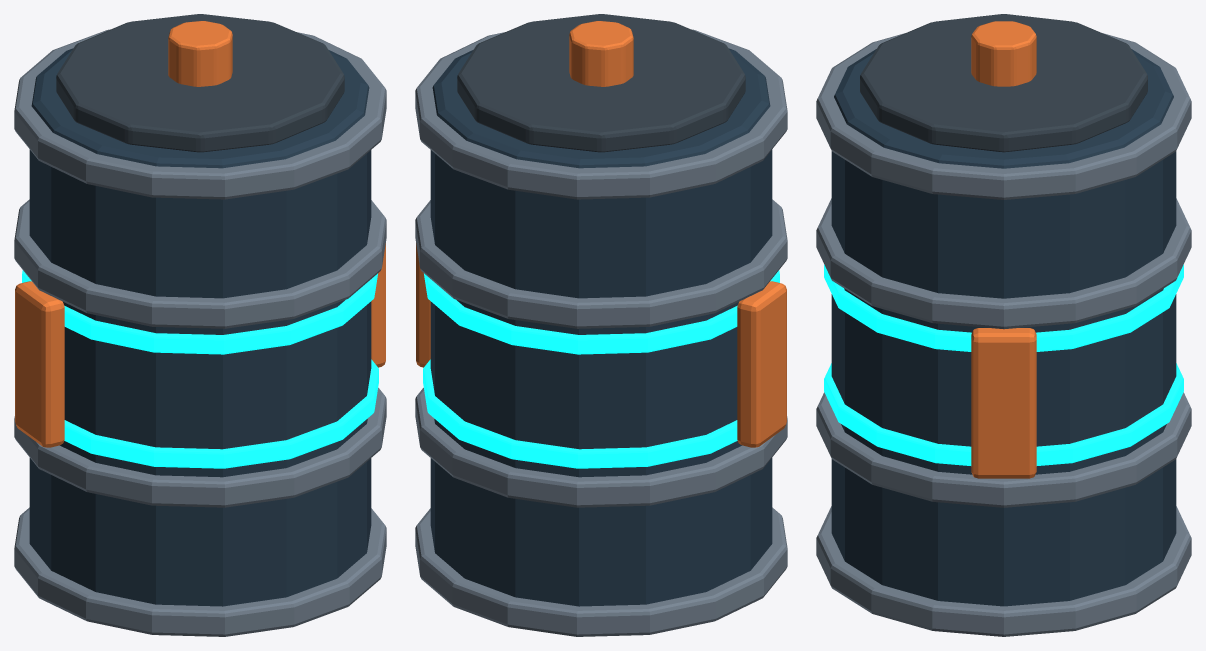
Rendered from energy-barrel.glb.
3 renders of one model, left to right at view 1: azimuth 30°, elevation 25°; view 2: azimuth 150°, elevation 25°; view 3: azimuth 270°, elevation 25°, orthographic.
Visible parts, largest first — view 1: BarrelCore, TopCap, Reinforcement_4.28, Reinforcement_0.22, Reinforcement_3.08, Reinforcement_1.42, Handle_-1, EnergyBand_1.72, EnergyBand_2.78, Valve, Handle_1; view 2: BarrelCore, TopCap, Reinforcement_4.28, Reinforcement_0.22, Reinforcement_3.08, Reinforcement_1.42, Handle_-1, EnergyBand_1.72, EnergyBand_2.78, Valve, Handle_1; view 3: BarrelCore, TopCap, Reinforcement_4.28, Reinforcement_3.08, Reinforcement_0.22, Reinforcement_1.42, Handle_1, EnergyBand_1.72, EnergyBand_2.78, Valve.
Part boxes in pixels (x1,y1,x2,y2): BarrelCore: [29, 48, 371, 606]; TopCap: [56, 14, 344, 152]; Reinforcement_4.28: [14, 29, 386, 199]; Reinforcement_0.22: [14, 507, 386, 636]; Reinforcement_3.08: [14, 199, 386, 328]; Reinforcement_1.42: [14, 388, 386, 507]; Handle_-1: [15, 281, 64, 447]; EnergyBand_1.72: [64, 359, 378, 468]; EnergyBand_2.78: [22, 270, 377, 354]; Valve: [168, 21, 232, 86]; Handle_1: [371, 243, 385, 367]; BarrelCore: [430, 48, 772, 606]; TopCap: [457, 14, 745, 152]; Reinforcement_4.28: [415, 29, 787, 199]; Reinforcement_0.22: [415, 507, 787, 636]; Reinforcement_3.08: [415, 199, 787, 328]; Reinforcement_1.42: [415, 388, 787, 507]; Handle_-1: [737, 281, 786, 447]; EnergyBand_1.72: [423, 359, 737, 468]; EnergyBand_2.78: [424, 270, 779, 354]; Valve: [569, 21, 633, 86]; Handle_1: [416, 243, 430, 367]; BarrelCore: [831, 49, 1176, 606]; TopCap: [860, 14, 1147, 152]; Reinforcement_4.28: [816, 33, 1191, 199]; Reinforcement_3.08: [816, 198, 1191, 329]; Reinforcement_0.22: [816, 506, 1191, 636]; Reinforcement_1.42: [816, 392, 1191, 507]; Handle_1: [971, 328, 1036, 478]; EnergyBand_1.72: [824, 363, 1183, 465]; EnergyBand_2.78: [824, 264, 1183, 351]; Valve: [971, 21, 1036, 86].
Bounding box in the file's own units: 0.9352 × 1.38 × 0.8848.
